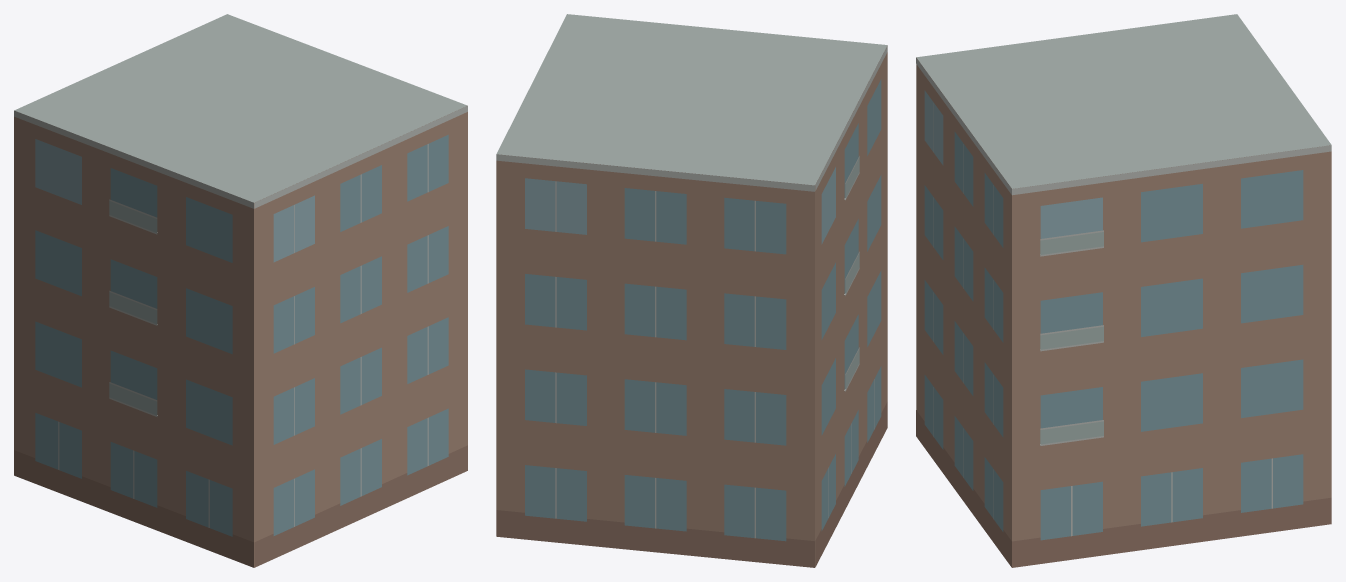
The model's file is survey-upis-32853107.glb.
3 views of the same model, side by side, from view 1: azimuth 30°, elevation 25°; view 2: azimuth 150°, elevation 25°; view 3: azimuth 270°, elevation 25° (orthographic). The views are drawn at different scales.
Parts seen in each view (by area): view 1: survey-upis-32853107.tmp; view 2: survey-upis-32853107.tmp; view 3: survey-upis-32853107.tmp.
Boxes of the visible parts, left/top/right/bottom form: survey-upis-32853107.tmp: left=14, top=14, right=467, bottom=567; survey-upis-32853107.tmp: left=496, top=14, right=887, bottom=567; survey-upis-32853107.tmp: left=916, top=14, right=1331, bottom=567.
Bounding box in the file's own units: 14.42 × 14.56 × 14.48.
